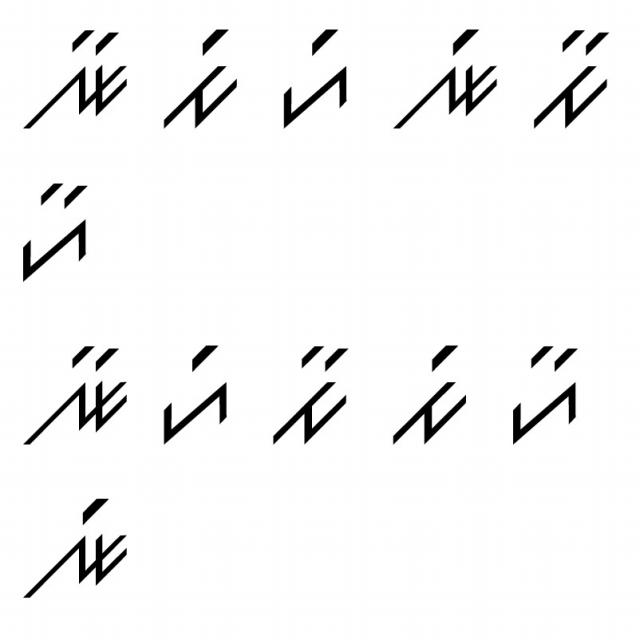han: (501, 337, 590, 449), (15, 173, 98, 283)
hang: (276, 20, 361, 137), (158, 335, 238, 449)
mban: (526, 23, 615, 137), (268, 341, 350, 459)
mbang: (158, 20, 243, 131), (384, 338, 468, 449)
ndan: (22, 342, 135, 454), (20, 21, 132, 133)
ndang: (17, 489, 131, 603), (385, 28, 505, 135)
